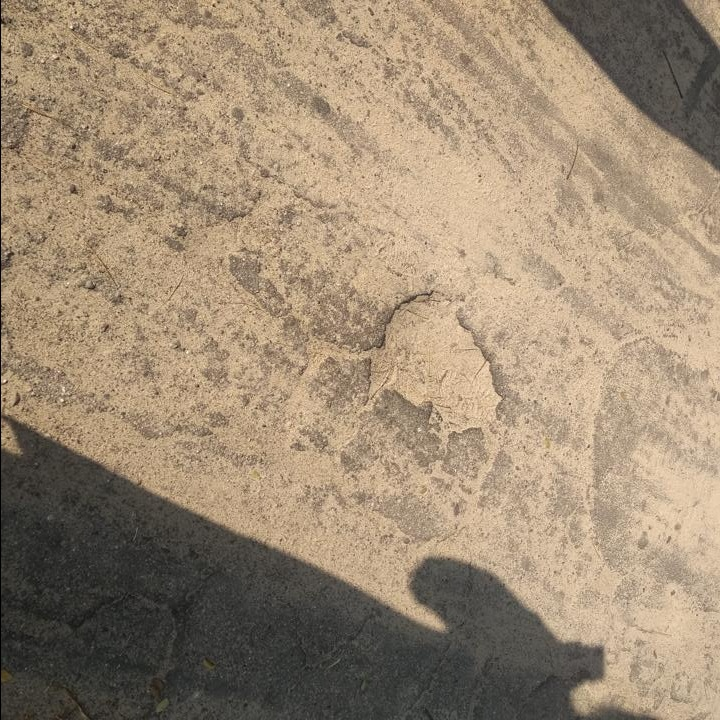pothole: (365, 284, 507, 444)
